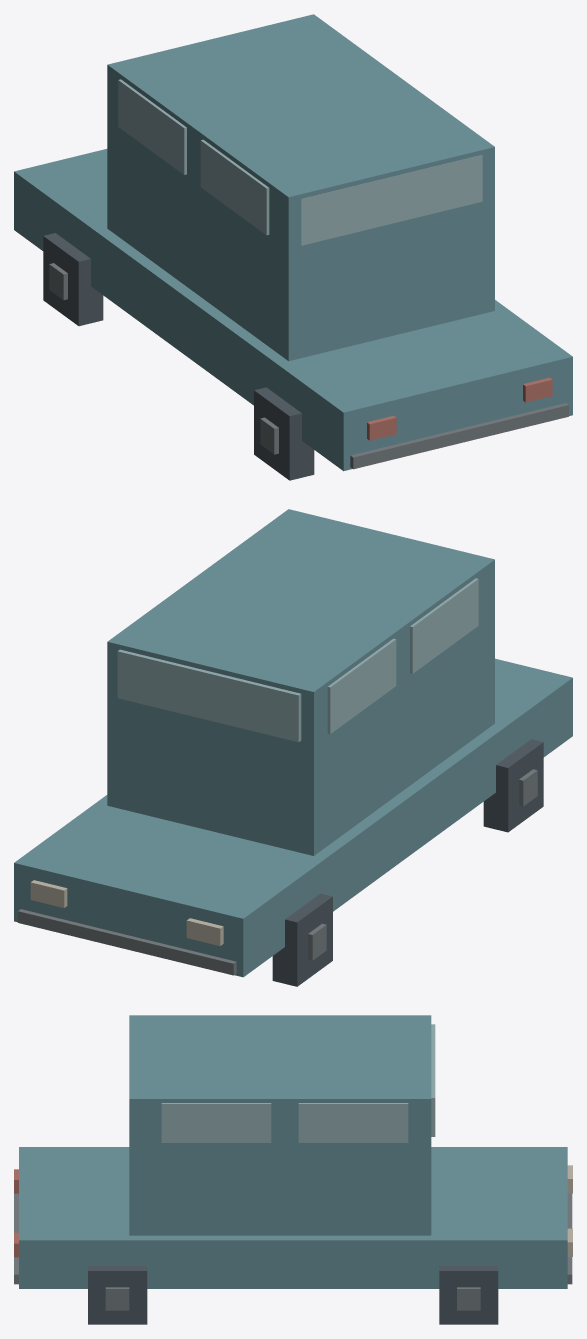
File: minibus.glb
3 renders of one model, top to bottom at view 1: azimuth 30°, elevation 25°; view 2: azimuth 150°, elevation 25°; view 3: azimuth 270°, elevation 25°, orthographic. The views are drawn at different scales.
Visible parts, largest first — view 1: body, wheel_-1.025_-1.632, wheel_-1.025_1.632; view 2: body, wheel_-1.025_1.632, wheel_-1.025_-1.632; view 3: body, wheel_1.025_-1.632, wheel_1.025_1.632.
Part boxes in pixels (x1,y1,x2,y2): body: (14,14,572,471); wheel_-1.025_-1.632: (43,233,103,326); wheel_-1.025_1.632: (254,387,314,480); body: (14,509,572,977); wheel_-1.025_1.632: (483,739,543,832); wheel_-1.025_-1.632: (272,893,332,986); body: (14,1015,572,1288); wheel_1.025_-1.632: (439,1266,498,1324); wheel_1.025_1.632: (88,1266,147,1324).
Size of the model in its own units: 2.35 by 2.21 by 5.19.
